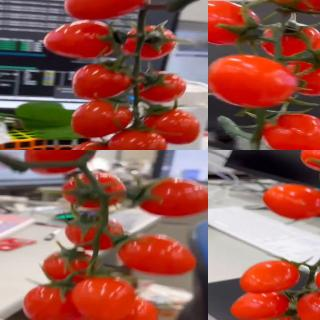tomato: (208, 57, 294, 110), (118, 231, 200, 275), (69, 274, 137, 320), (132, 176, 208, 217), (42, 19, 118, 59), (62, 169, 128, 208), (70, 61, 134, 100), (255, 19, 320, 56), (70, 100, 133, 138), (22, 282, 84, 320), (208, 0, 262, 43), (138, 108, 202, 144), (262, 182, 320, 221), (66, 215, 126, 251), (263, 113, 320, 150), (239, 259, 301, 293), (42, 247, 94, 287), (120, 27, 178, 61), (62, 0, 150, 22), (229, 290, 290, 320), (94, 294, 160, 320), (25, 150, 98, 173), (135, 73, 187, 103), (108, 127, 168, 150), (291, 62, 320, 96), (253, 0, 320, 13), (298, 290, 320, 320), (63, 140, 119, 150), (299, 150, 320, 174)
